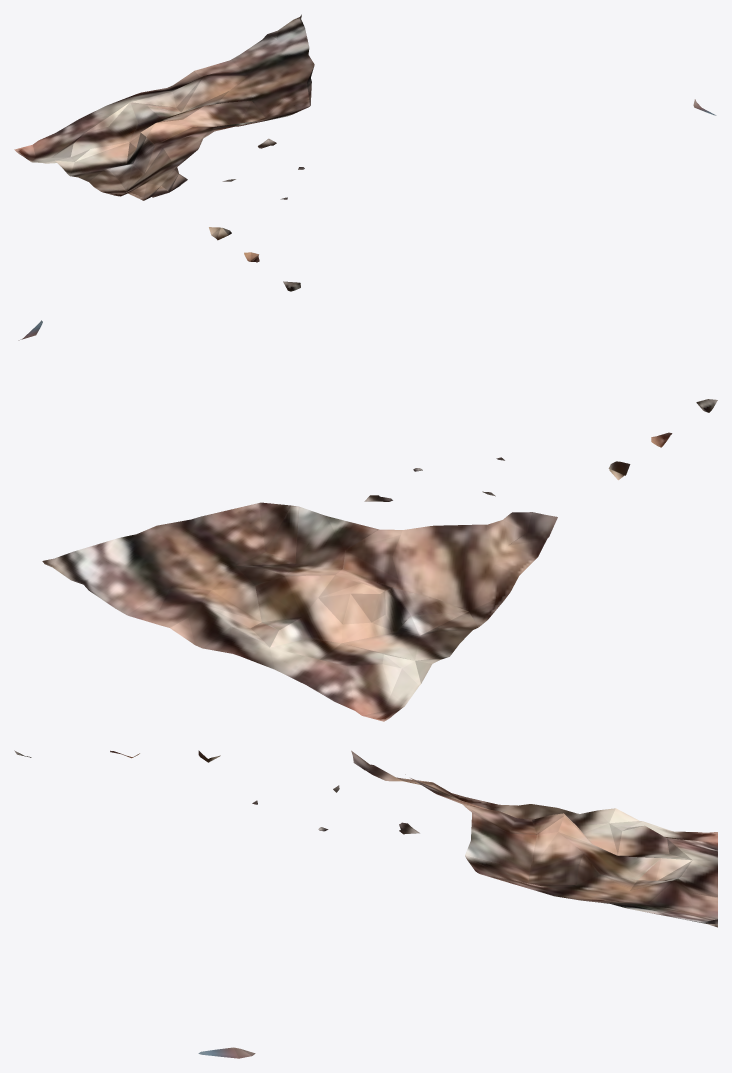
3 views of the same model, one above another, from view 1: azimuth 30°, elevation 25°; view 2: azimuth 150°, elevation 25°; view 3: azimuth 270°, elevation 25° (orthographic). The views are drawn at different scales.
Bounding box in the file's own units: 1.67 × 0.2146 × 1.64.
1 material, 1 textured.
